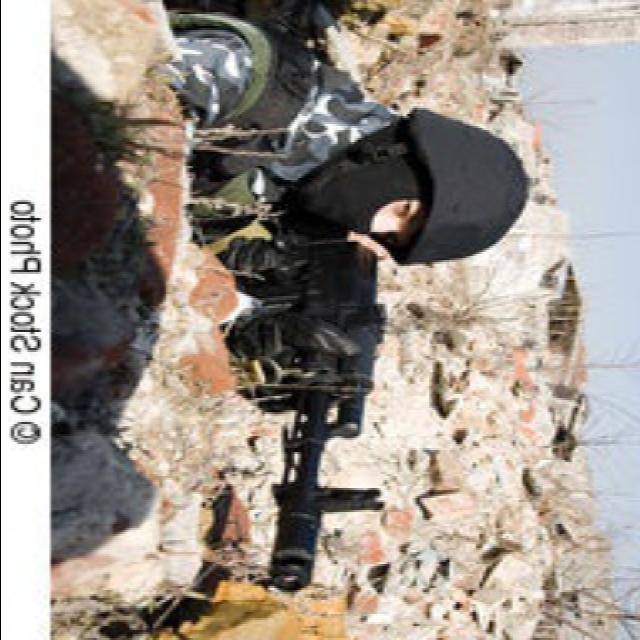rifle: (229, 245, 399, 591)
